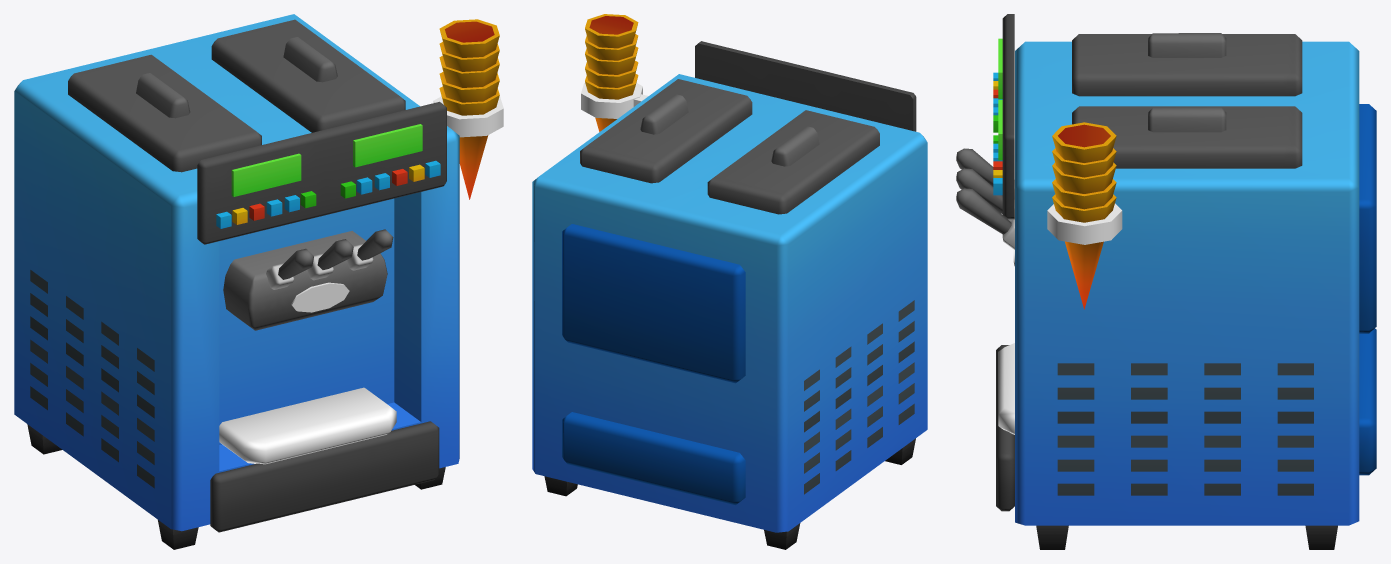
Rendered from Map02_Maylamkem_LV5.fbx.
3 views of the same model, side by side, from view 1: azimuth 30°, elevation 25°; view 2: azimuth 150°, elevation 25°; view 3: azimuth 270°, elevation 25° (orthographic). The views are drawn at different scales.
Visible parts, largest first — view 1: Map02_Maylamkem_LV5; view 2: Map02_Maylamkem_LV5; view 3: Map02_Maylamkem_LV5.
Part boxes in pixels (<box>): Map02_Maylamkem_LV5: <box>14,14,503,549</box>; Map02_Maylamkem_LV5: <box>532,14,927,549</box>; Map02_Maylamkem_LV5: <box>956,14,1376,549</box>.
Bounding box in the file's own units: 121 × 137 × 119.
